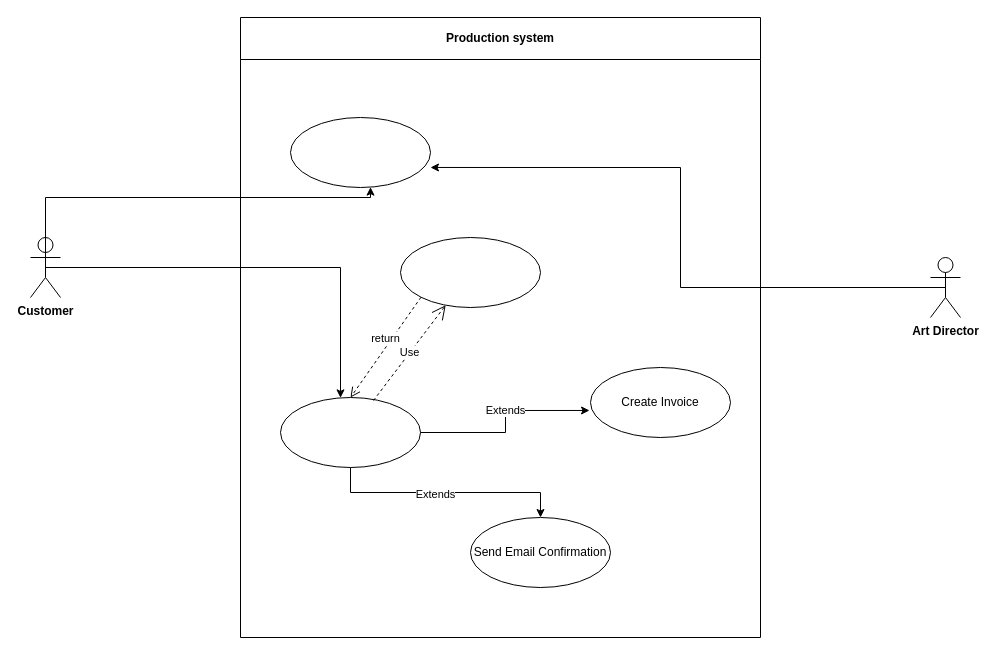
Image size: 996x655. Some labels were removed from this diagram. The centre of each missing label's shape, as x and y in pixels:
Check Out Order: the point at 350,432
Payment gateway: the point at 470,272
Search Orders: the point at 360,152
